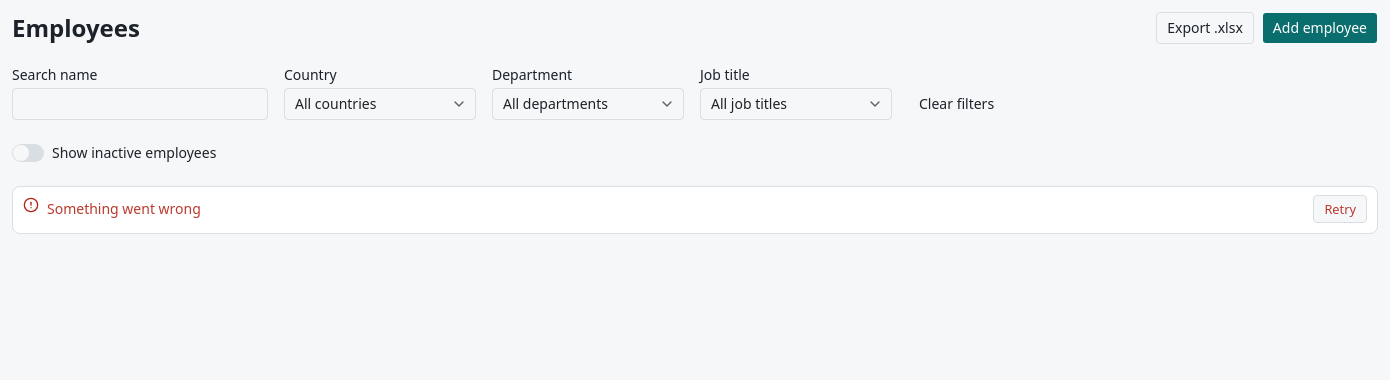
Test case: EmployeeListPage › shows an error message with a retry button, and retrying loads the list
Expected: the message shows "Something went wrong", [47,199,201,218]
Click the button "Retry" at coordinates (1340, 209), box [1313,195,1367,223]
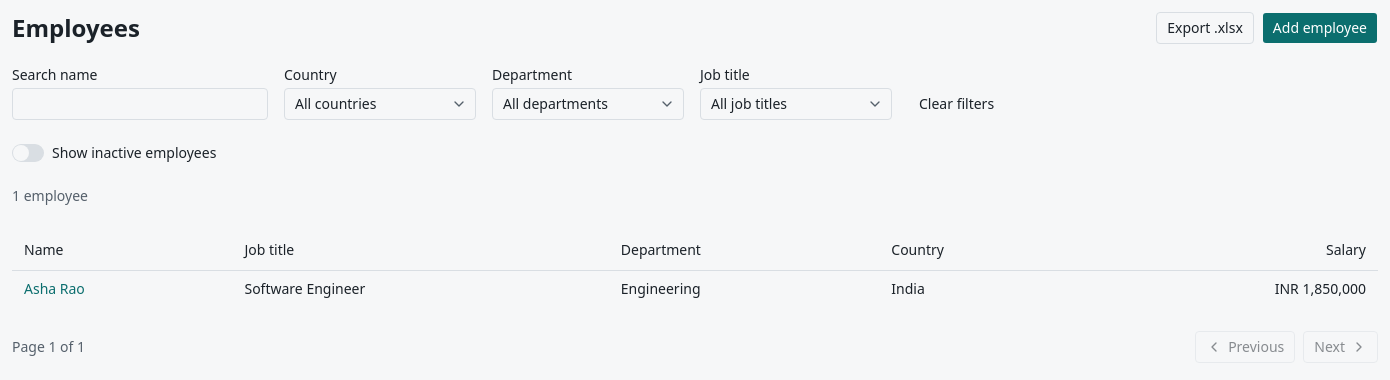
Expected: the link "Asha Rao" is shown, [24,279,85,298]
Expected: the message "Something went wrong Retry" is gone
